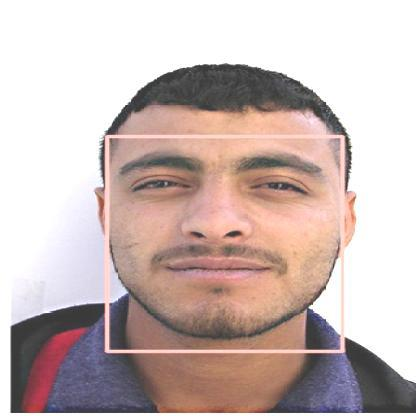without_mask: (106, 136, 342, 351)
